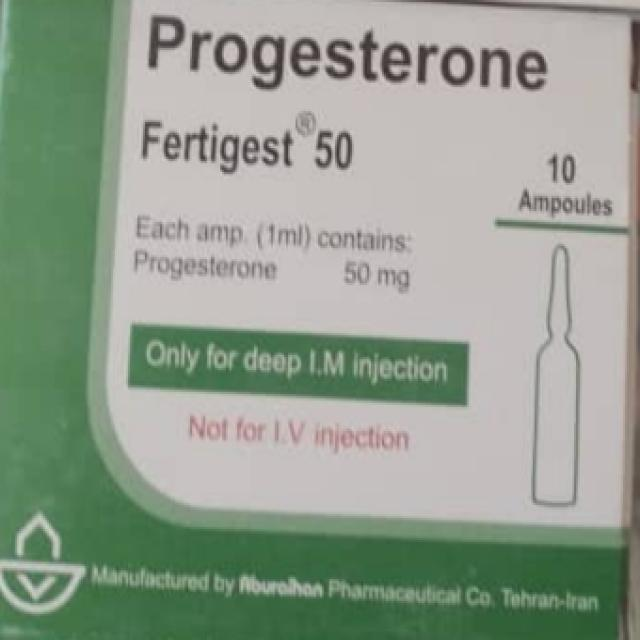drug-name: (133, 112, 354, 180)
